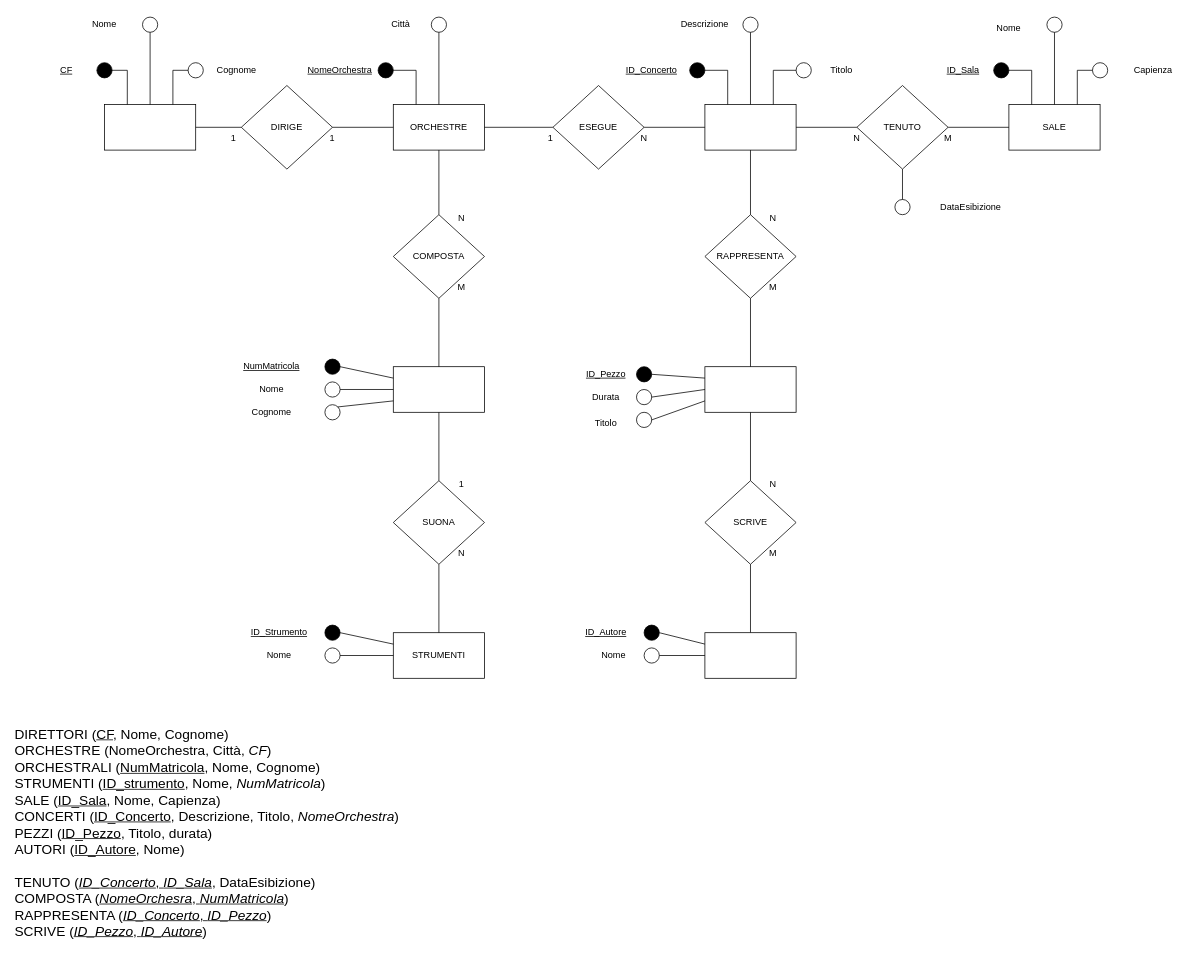
This 1189x972 diagram has some shape labels left out. The centre of each missing label's shape, as x and y in pixels:
"AUTORI" goes at pixel 750 655.
"CONCERTI" goes at pixel 750 127.
"DIRETTORI" goes at pixel 150 127.
"ORCHESTRALI" goes at pixel 438 389.
"PEZZI" goes at pixel 750 389.
